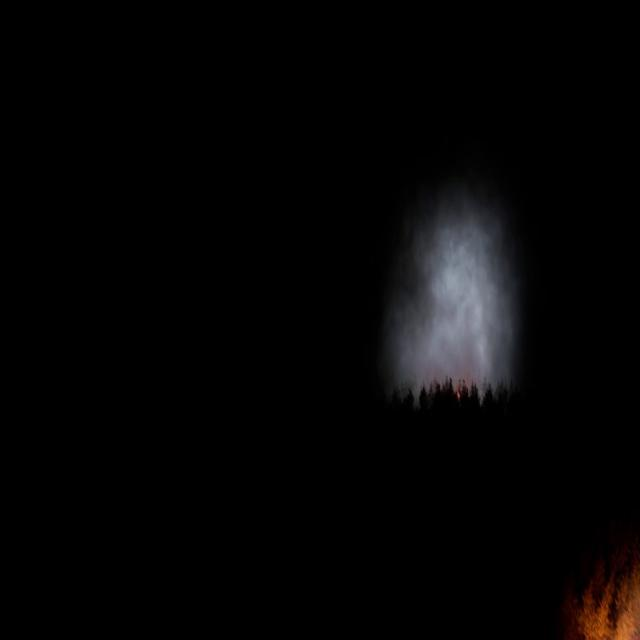fire: (576, 548, 640, 639)
smoke: (384, 185, 526, 397)
